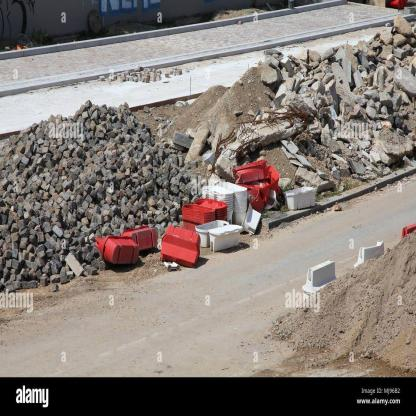rebar: (211, 107, 314, 174)
